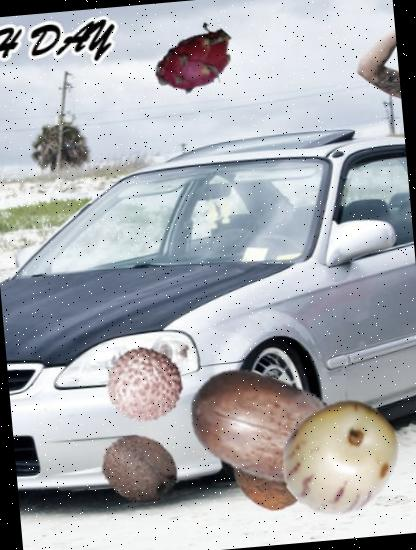Cocos: (95, 424, 185, 514)
Lychee: (103, 342, 188, 428)
Nut: (180, 346, 338, 504)
Pepino: (276, 393, 406, 524)
Pitahaya: (153, 17, 243, 107)
Walnut: (231, 428, 318, 516)
